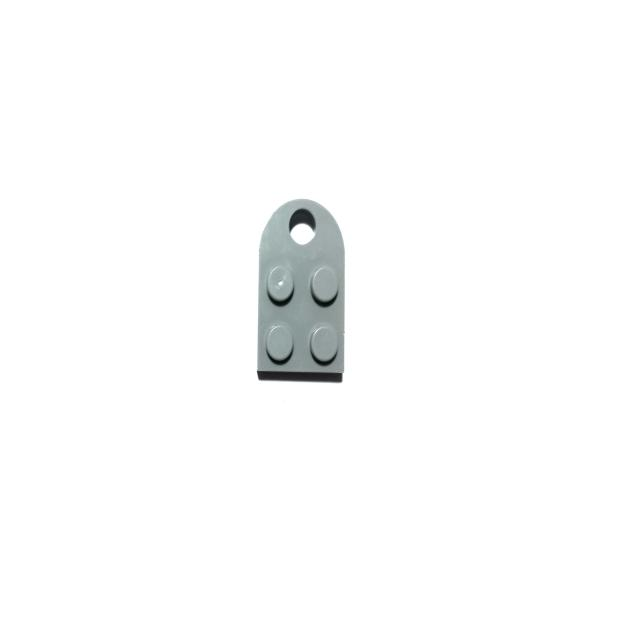White_Medium: (256, 197, 345, 374)
